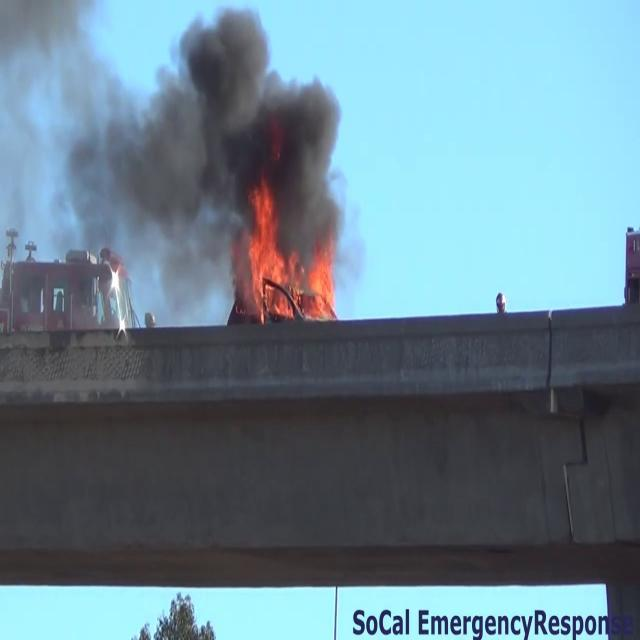Fire: (242, 180, 344, 324)
Smoke: (2, 2, 352, 281)
